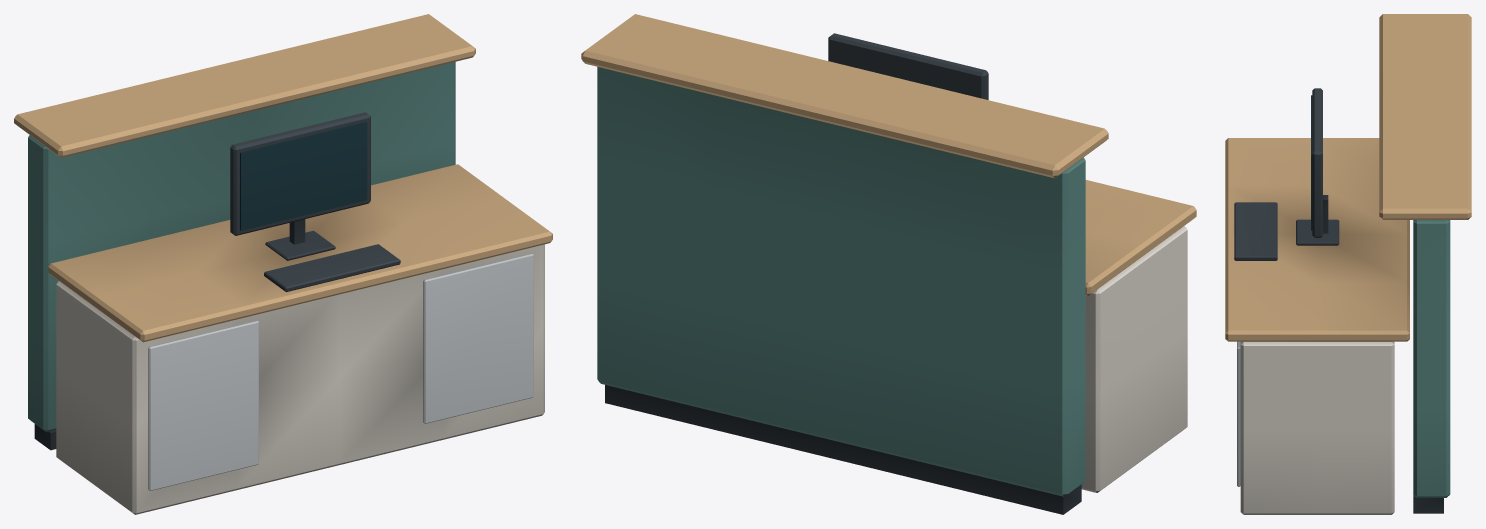
The model's file is counter.glb.
The picture shows the model from 3 angles, left to right: view 1: azimuth 30°, elevation 25°; view 2: azimuth 150°, elevation 25°; view 3: azimuth 270°, elevation 25°; orthographic projection. The views are drawn at different scales.
Visible parts, largest first — view 1: body, front, desk, drawers, ledge, screen, monitor, keyboard; view 2: front, ledge, body, plinth, desk, monitor; view 3: desk, body, ledge, front, monitor, keyboard, drawers, plinth.
Boxes of the visible parts, <box> form: body: <box>56,244,544,514</box>; front: <box>28,62,455,432</box>; desk: <box>48,164,552,342</box>; drawers: <box>148,253,533,490</box>; ledge: <box>14,14,475,157</box>; screen: <box>240,122,367,230</box>; monitor: <box>230,112,370,260</box>; keyboard: <box>264,244,400,292</box>; front: <box>597,67,1085,496</box>; ledge: <box>581,14,1108,178</box>; body: <box>1081,226,1187,492</box>; plinth: <box>605,385,1081,514</box>; desk: <box>1085,180,1196,295</box>; monitor: <box>828,33,988,99</box>; desk: <box>1225,138,1409,341</box>; body: <box>1240,341,1394,514</box>; ledge: <box>1379,14,1471,219</box>; front: <box>1413,220,1450,497</box>; monitor: <box>1296,88,1339,245</box>; keyboard: <box>1234,202,1277,260</box>; drawers: <box>1237,341,1240,486</box>; plinth: <box>1413,495,1443,513</box>.
Bounding box in the file's own units: 1.52 × 1.1 × 0.8.
